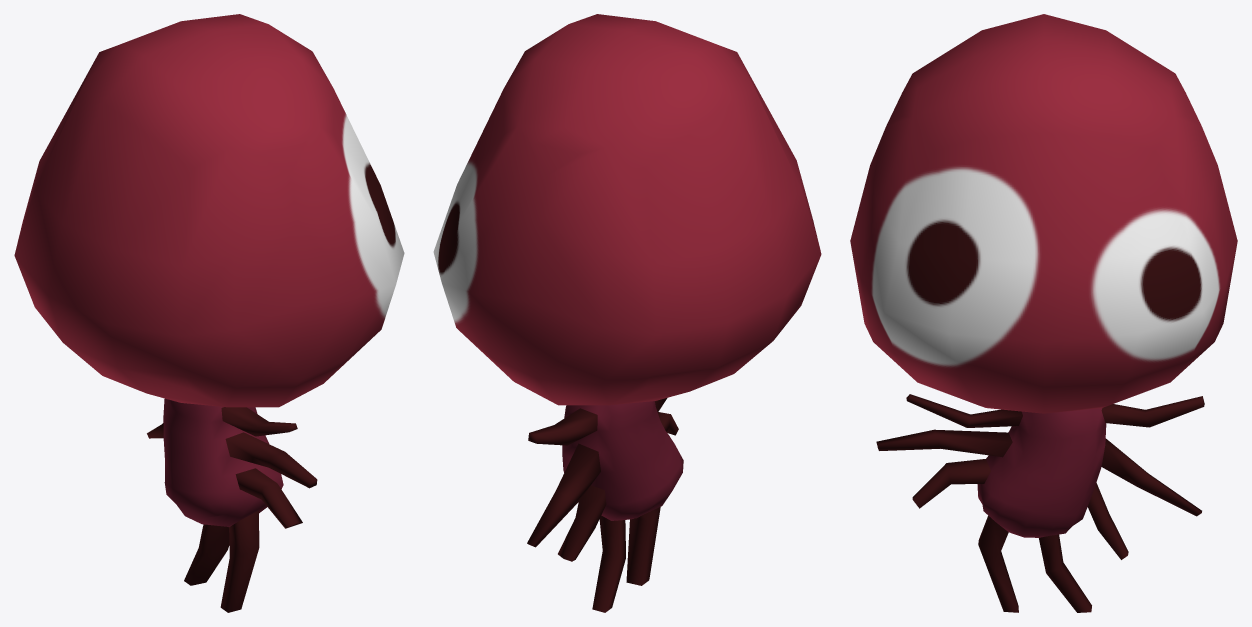
The model's file is ant.fbx.
3 views of the same model, side by side, from view 1: azimuth 30°, elevation 25°; view 2: azimuth 150°, elevation 25°; view 3: azimuth 270°, elevation 25° (orthographic).
Visible parts, largest first — view 1: head.009, body.007; view 2: head.009, body.007; view 3: head.009, body.007.
Part boxes in pixels (bbox=[...]): head.009: bbox=[14, 14, 404, 407]; body.007: bbox=[147, 398, 317, 612]; head.009: bbox=[433, 14, 821, 405]; body.007: bbox=[527, 398, 683, 612]; head.009: bbox=[850, 14, 1237, 413]; body.007: bbox=[876, 394, 1204, 612].
Bounding box in the file's own units: 74.62 × 125 × 77.42.
1 material, 1 textured.
